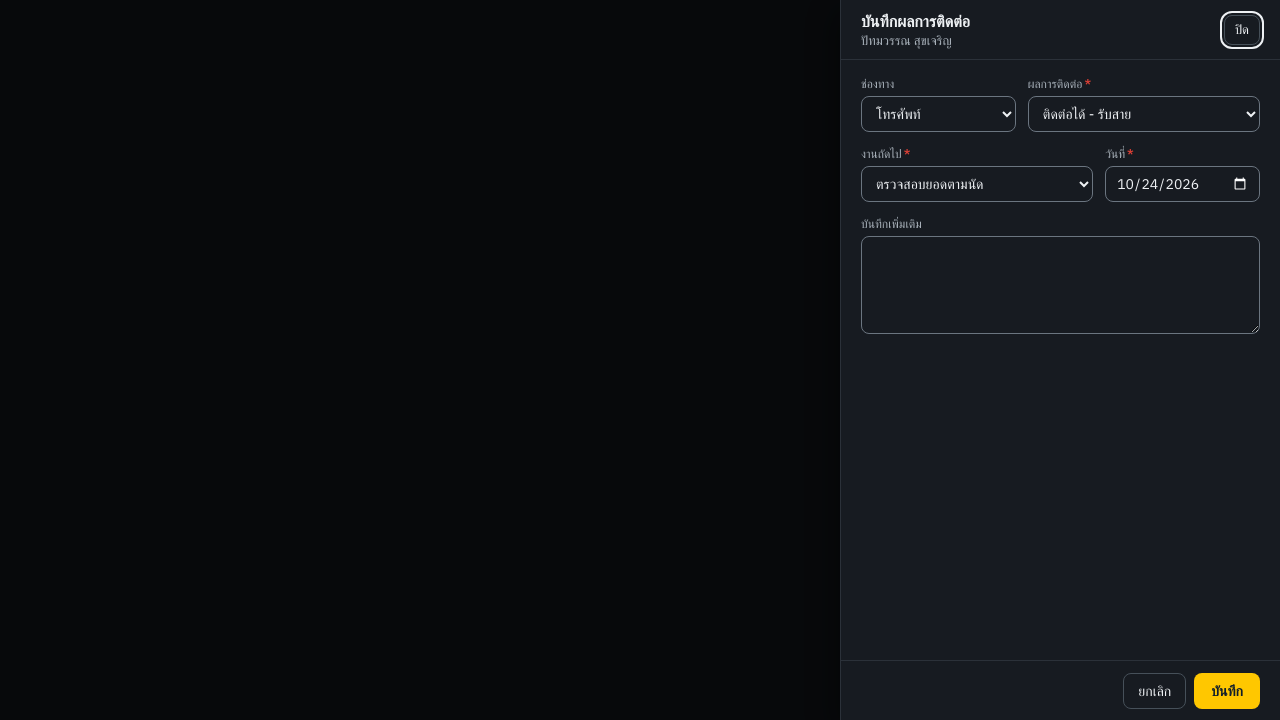
Test: the contact drawer promise fields (F01, F01c) › shows the amount and date only for a promise result
Expected: the field labelled "จำนวนเงินนัดชำระ" is not shown
Select "ติดต่อได้ (โทรศัพท์) - นัดชำระ" in the dropdown labelled "ผลการติดต่อ*" at (1144, 114), box [1028,96,1260,132]
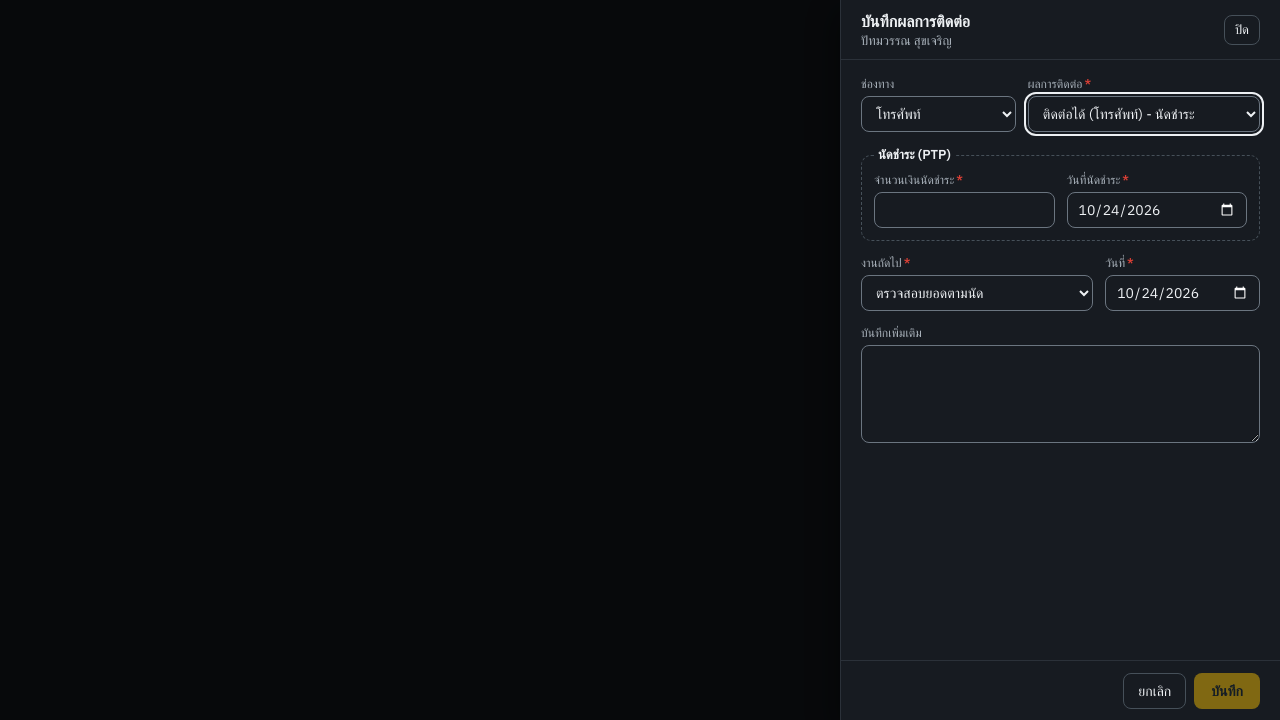
Select "ติดต่อได้ - รับสาย" in the dropdown labelled "ผลการติดต่อ*" at (1144, 114), box [1028,96,1260,132]
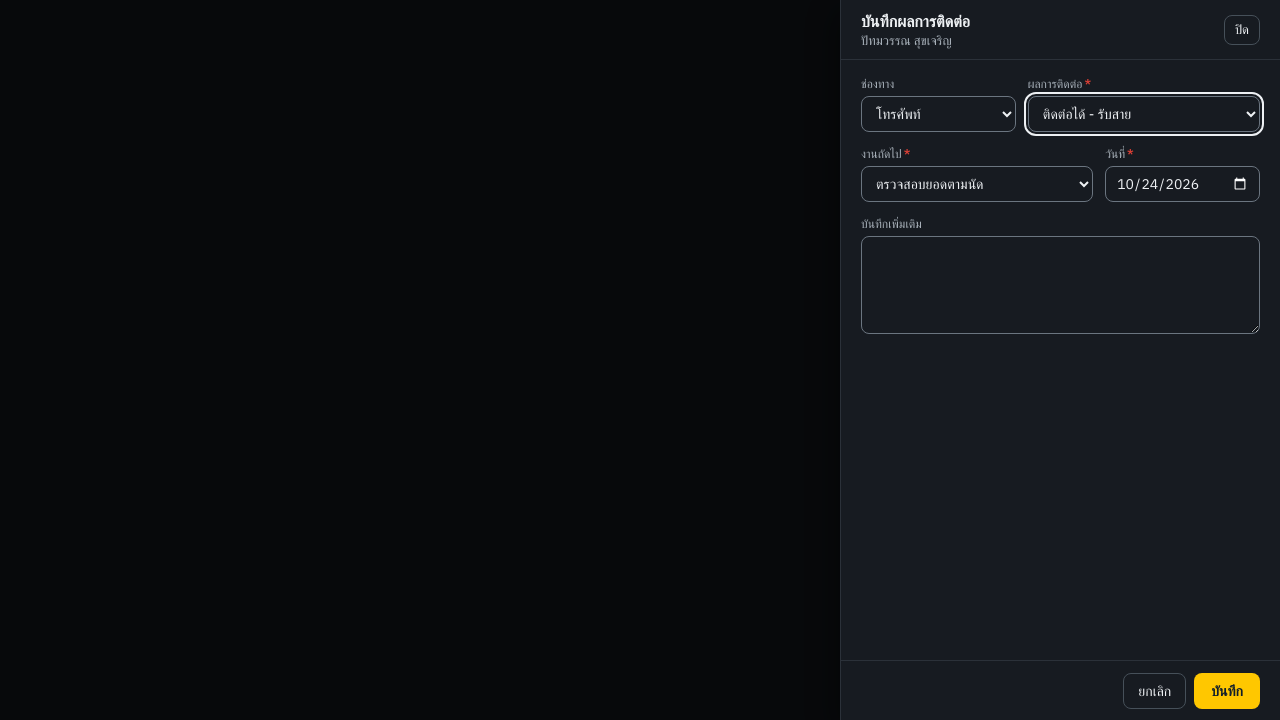
Result: the field labelled "จำนวนเงินนัดชำระ" is gone
